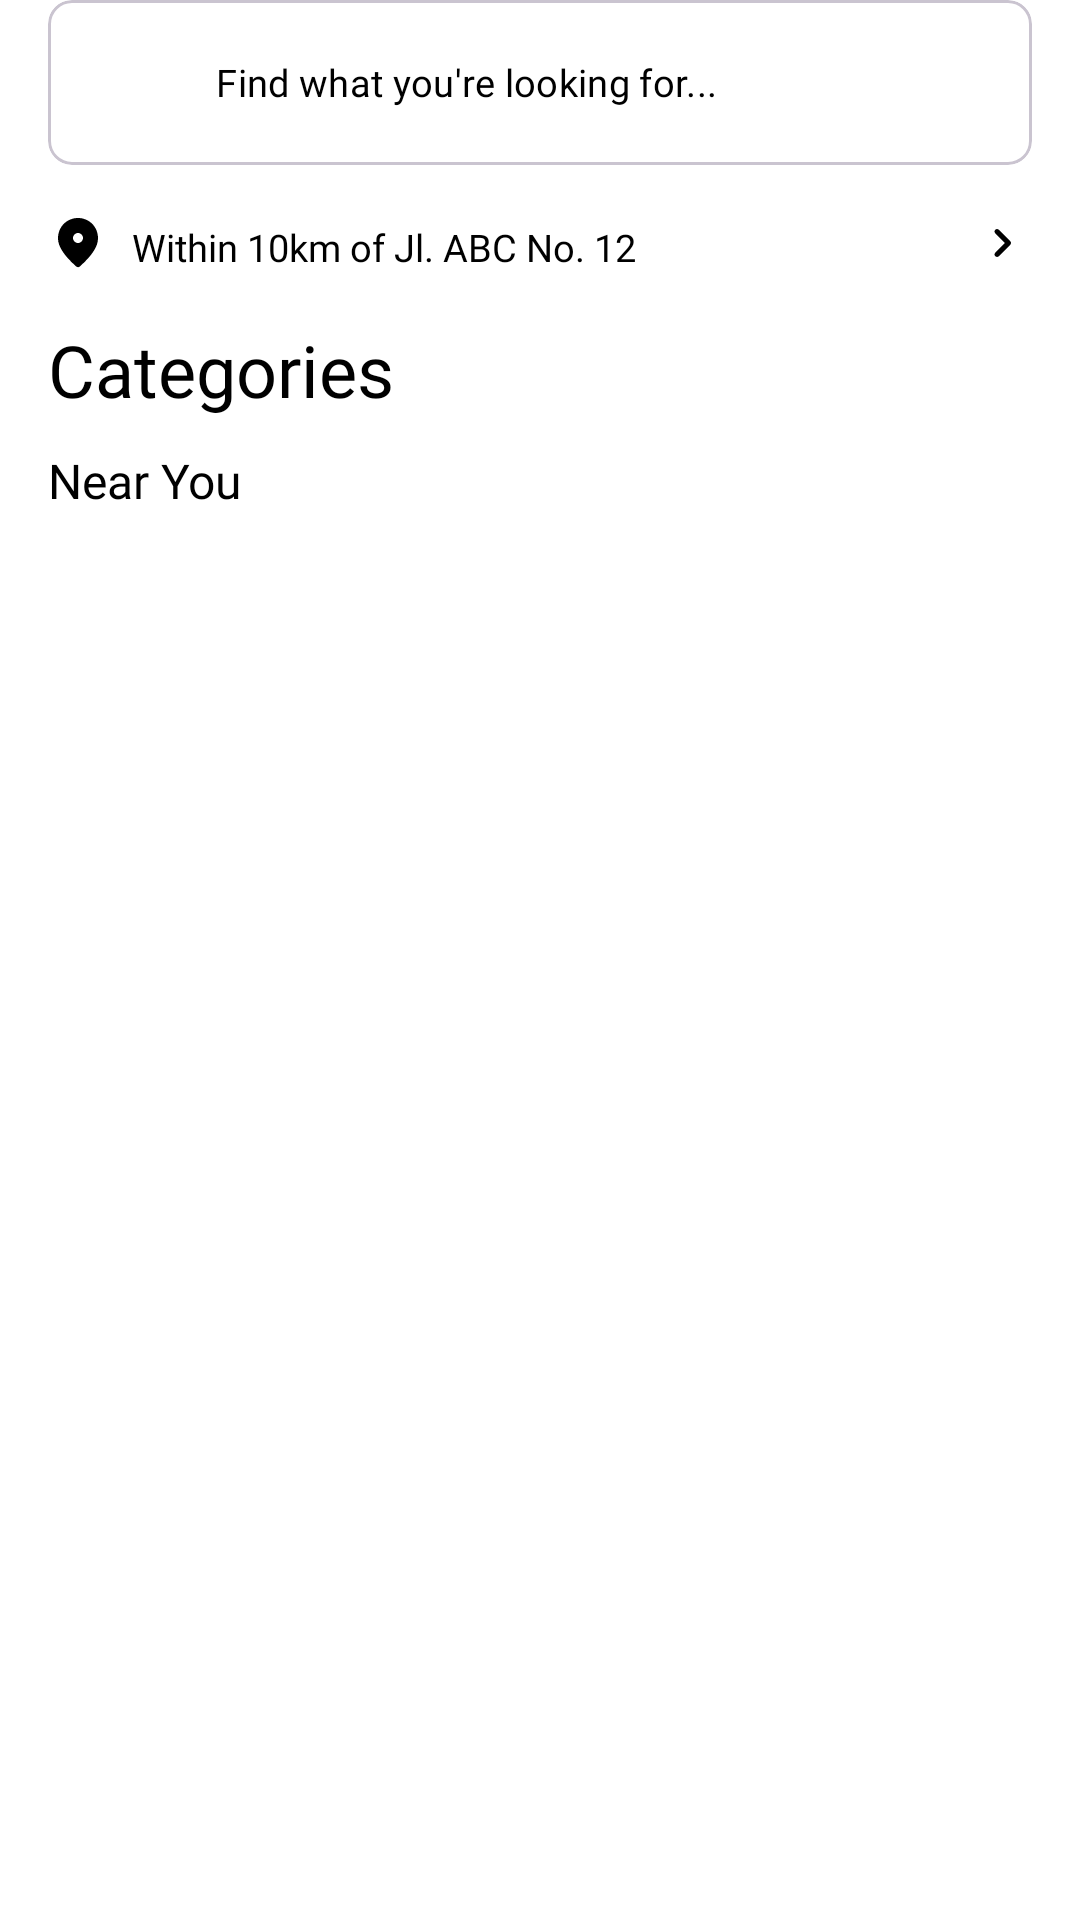

Icon bounding boxes for this 1080×1920 phone screenshot, format (x1,y1,x2,y2):
location: (58,218,98,268)
next: (994,229,1011,257)
